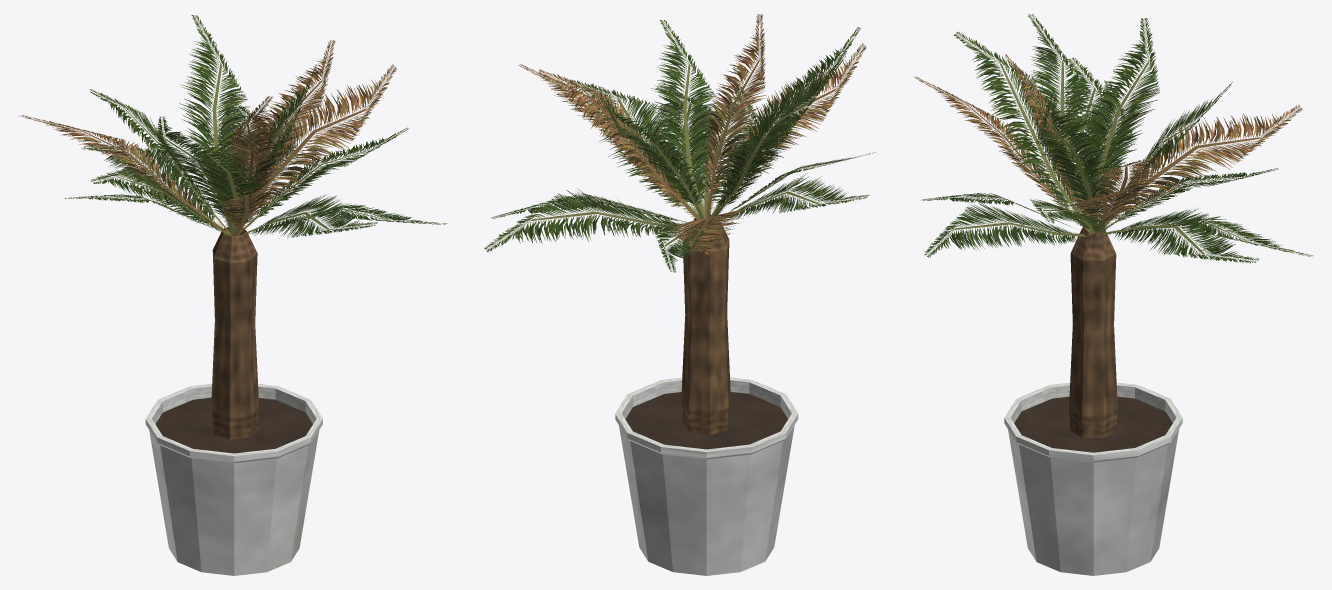
The model's file is SM_Molo_PalmaVaso_LOD1.fbx.
The picture shows the model from 3 angles, left to right: view 1: azimuth 30°, elevation 25°; view 2: azimuth 150°, elevation 25°; view 3: azimuth 270°, elevation 25°; orthographic projection. The views are drawn at different scales.
Parts seen in each view (by area): view 1: SM_Molo_PalmaVaso_LOD1; view 2: SM_Molo_PalmaVaso_LOD1; view 3: SM_Molo_PalmaVaso_LOD1.
Part boxes in pixels (bbox=[...]): SM_Molo_PalmaVaso_LOD1: bbox=[19, 15, 447, 575]; SM_Molo_PalmaVaso_LOD1: bbox=[484, 14, 875, 575]; SM_Molo_PalmaVaso_LOD1: bbox=[914, 14, 1312, 575].
Bounding box in the file's own units: 249 × 261 × 346.
Materials: 2 (2 with a texture image).
